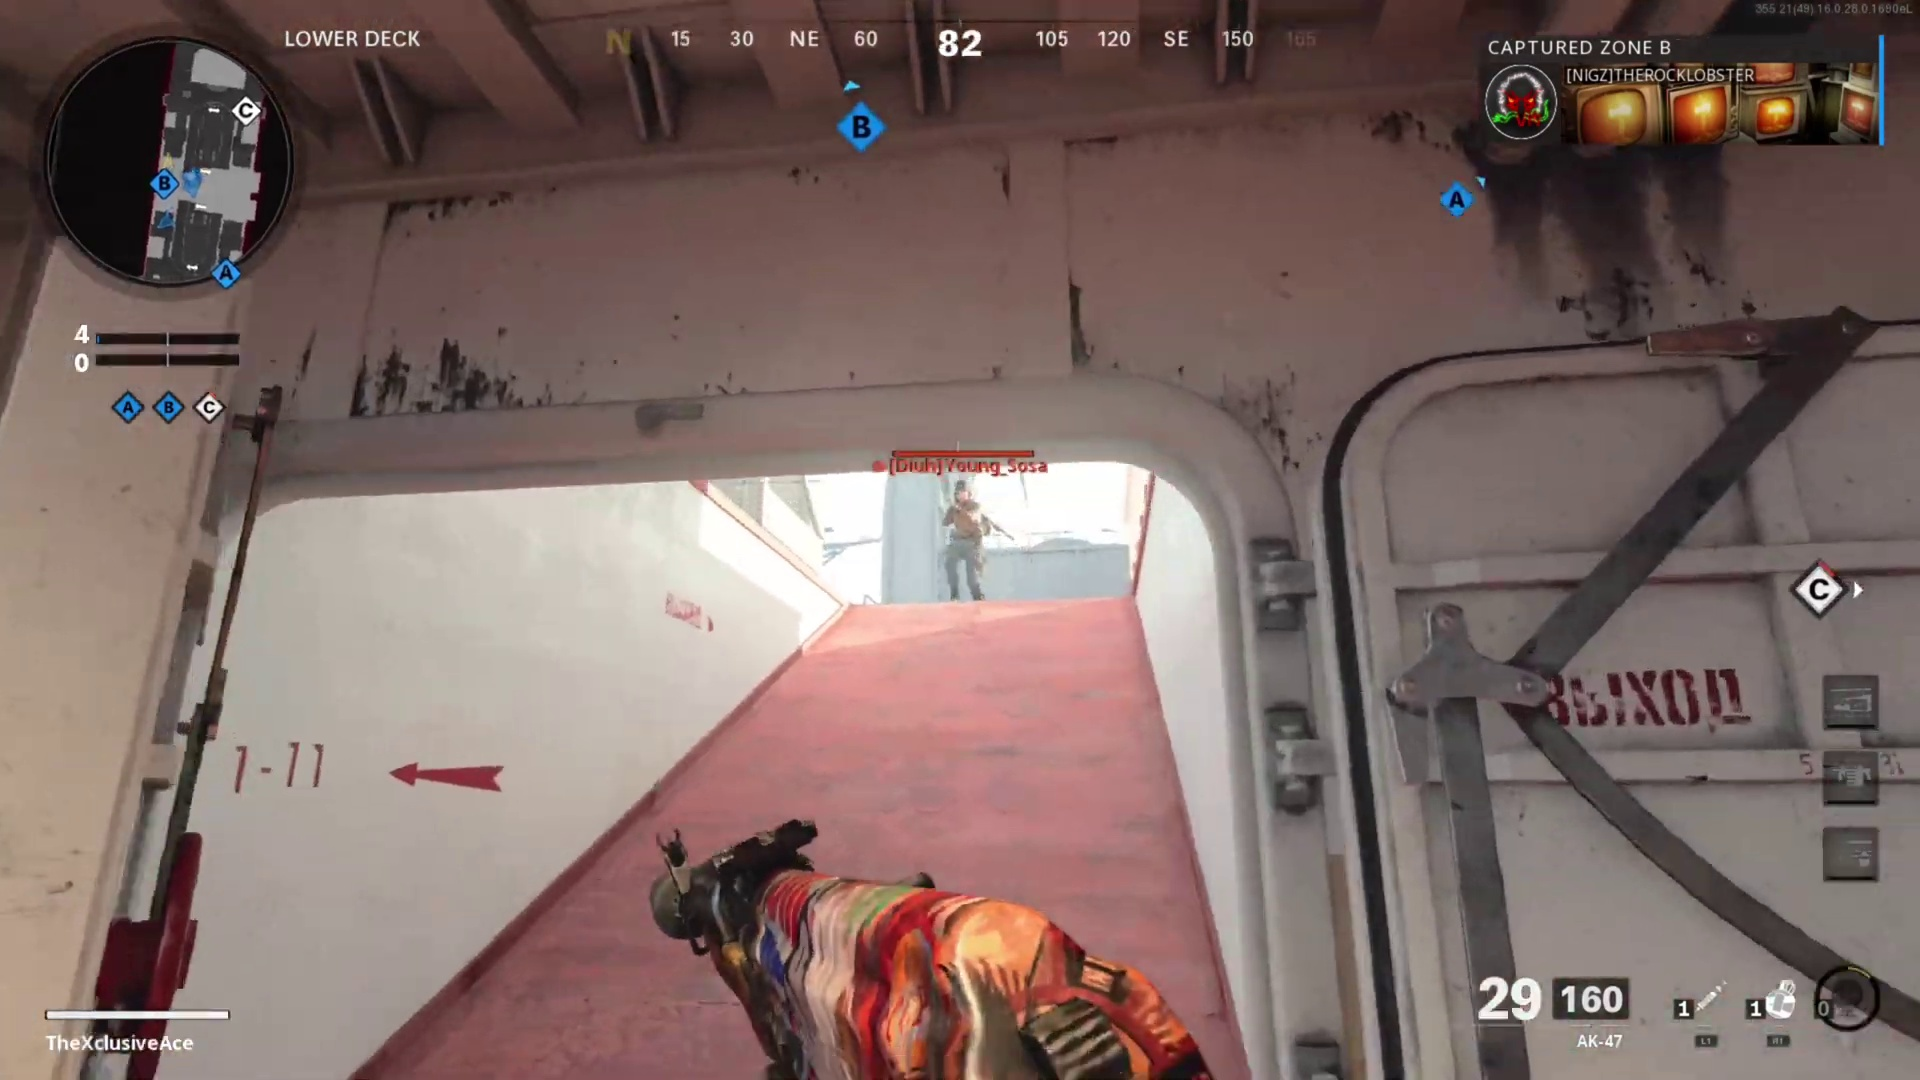head: (953, 484, 971, 521)
person: (937, 479, 997, 599)
